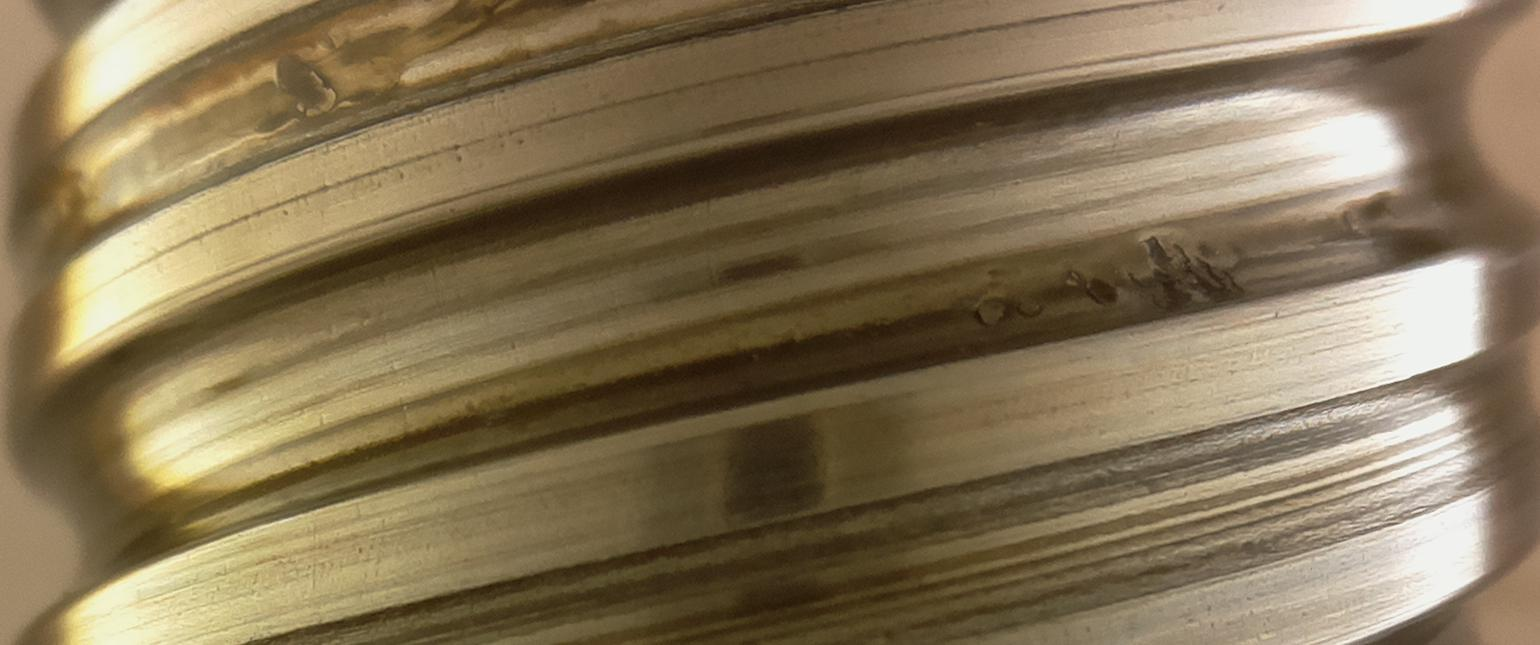pitting: (1128, 235, 1244, 314)
